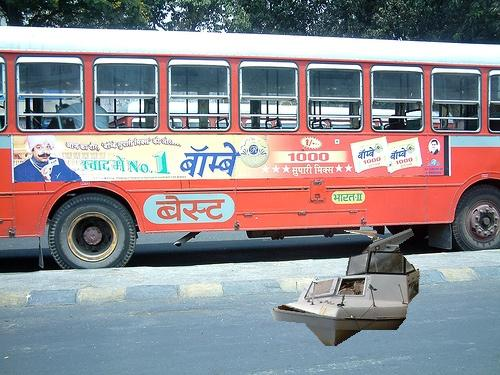tampered: (271, 229, 420, 346)
